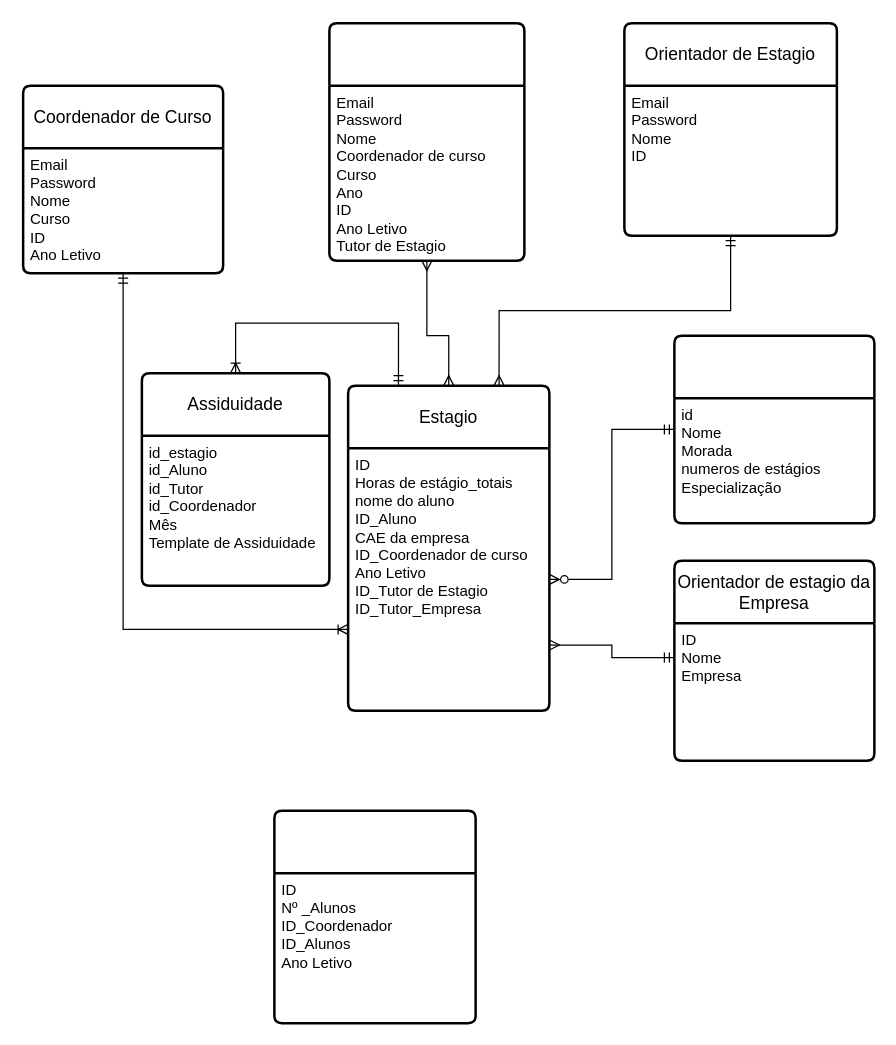
The diagram is 896 pixels wide and 1045 high, and some of its shapes have lost their labels. Here are the shapes that lost their labels. From the top down, the box of each, then its label:
(328, 21, 525, 261): Aluno
(672, 334, 875, 524): Empresa
(272, 809, 476, 1024): Curso
